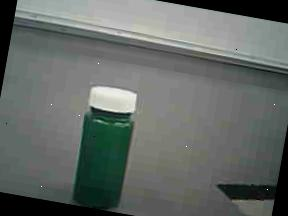Bottle C: (56, 71, 158, 216)
